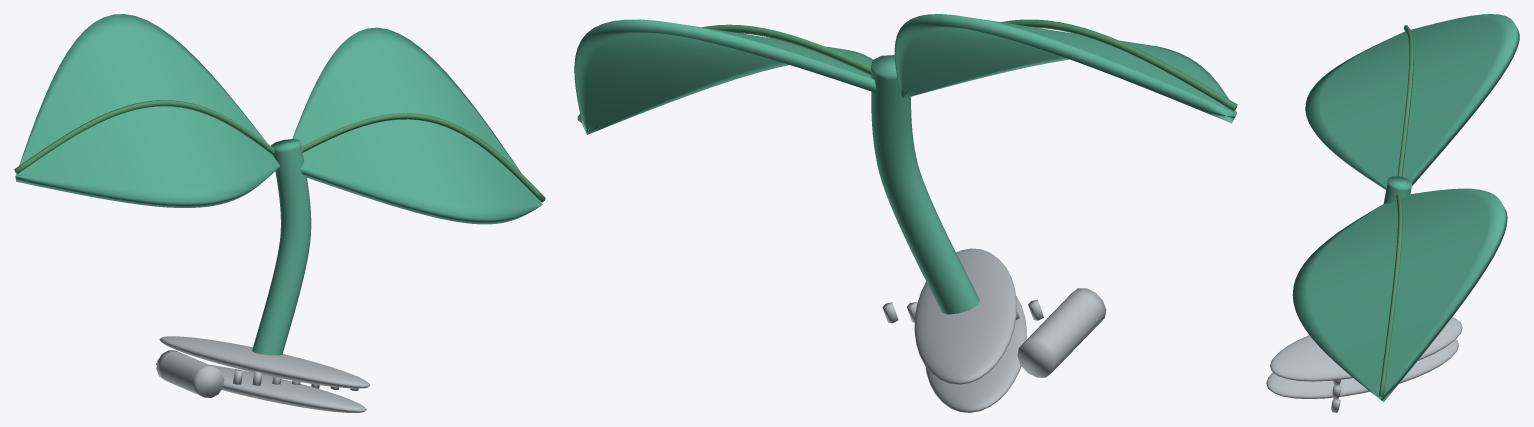
File: Masculine-flow-pashmina249-sprout.glb
3 views of the same model, side by side, from view 1: azimuth 30°, elevation 25°; view 2: azimuth 150°, elevation 25°; view 3: azimuth 270°, elevation 25° (orthographic). The views are drawn at different scales.
Visible parts, largest first — view 1: 226 extra / Accessory / mint226, 226 extra / Sprout / clip silver235, 226 extra / Sprout / leaf vein235; view 2: 226 extra / Accessory / mint226, 226 extra / Sprout / clip silver235, 226 extra / Sprout / leaf vein235; view 3: 226 extra / Accessory / mint226, 226 extra / Sprout / clip silver235, 226 extra / Sprout / leaf vein235.
Part boxes in pixels (box(x1,y1,x2,y2)): 226 extra / Accessory / mint226: box(15, 14, 542, 355); 226 extra / Sprout / clip silver235: box(156, 336, 370, 412); 226 extra / Sprout / leaf vein235: box(14, 100, 545, 202); 226 extra / Accessory / mint226: box(574, 14, 1237, 314); 226 extra / Sprout / clip silver235: box(882, 248, 1106, 412); 226 extra / Sprout / leaf vein235: box(577, 19, 1237, 122); 226 extra / Accessory / mint226: box(1292, 14, 1519, 401); 226 extra / Sprout / clip silver235: box(1266, 317, 1462, 412); 226 extra / Sprout / leaf vein235: box(1379, 25, 1413, 397).
Size of the model in its own units: 0.2623 by 0.1661 by 0.1192.
